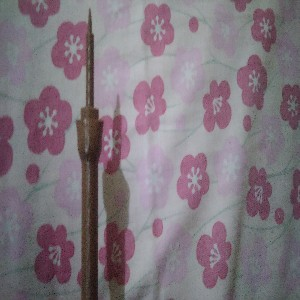solder: (74, 6, 104, 300)
